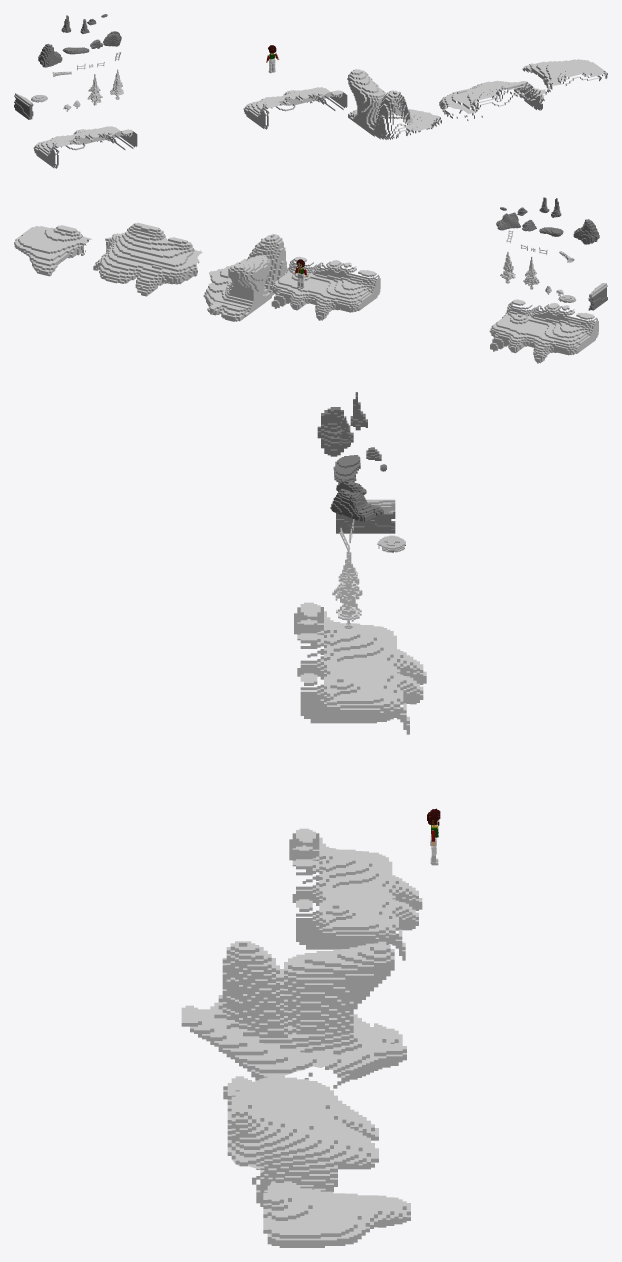
Rendered from Platform_1.fbx.
3 renders of one model, top to bottom at view 1: azimuth 30°, elevation 25°; view 2: azimuth 150°, elevation 25°; view 3: azimuth 270°, elevation 25°, orthographic. The views are drawn at different scales.
Visible parts, largest first — view 1: Island_2_G, Island_3_G, Island_1_G.001, Island_1_G, Island_4_G, Stone_8, Wall_1, Tree_2, Stone_1, Male_Hüfte; view 2: Island_3_G, Island_1_G.001, Island_1_G, Island_2_G, Island_4_G, Stone_8, Wall_1, Stone_1, Tree_1, Tree_2, Male_Hüfte; view 3: Island_2_G, Island_3_G, Island_1_G.001, Island_1_G, Island_4_G, Wall_1, Stone_8.
Boxes of the visible parts, x1,y1,x2,y2 form: Island_2_G: (347,69,441,139); Island_3_G: (439,80,546,120); Island_1_G.001: (33,126,137,168); Island_1_G: (243,87,347,129); Island_4_G: (522,59,607,92); Stone_8: (38,43,62,67); Wall_1: (14,93,33,119); Tree_2: (87,74,102,105); Stone_1: (103,31,121,46); Male_Hüfte: (266,45,279,73); Island_3_G: (93,222,202,296); Island_1_G.001: (489,299,598,363); Island_1_G: (271,256,380,320); Island_2_G: (203,234,288,321); Island_4_G: (14,225,91,276); Stone_8: (573,219,599,244); Wall_1: (588,283,607,310); Stone_1: (496,212,520,230); Tree_1: (500,251,515,283); Tree_2: (523,256,539,289); Male_Hüfte: (294,259,307,288); Island_2_G: (181,941,406,1088); Island_3_G: (223,1076,378,1206); Island_1_G.001: (294,602,426,734); Island_1_G: (289,828,422,960); Island_4_G: (263,1177,410,1247); Wall_1: (336,499,395,533); Stone_8: (317,407,353,456).
Size of the model in its own units: 10391 by 3328 by 2063.
